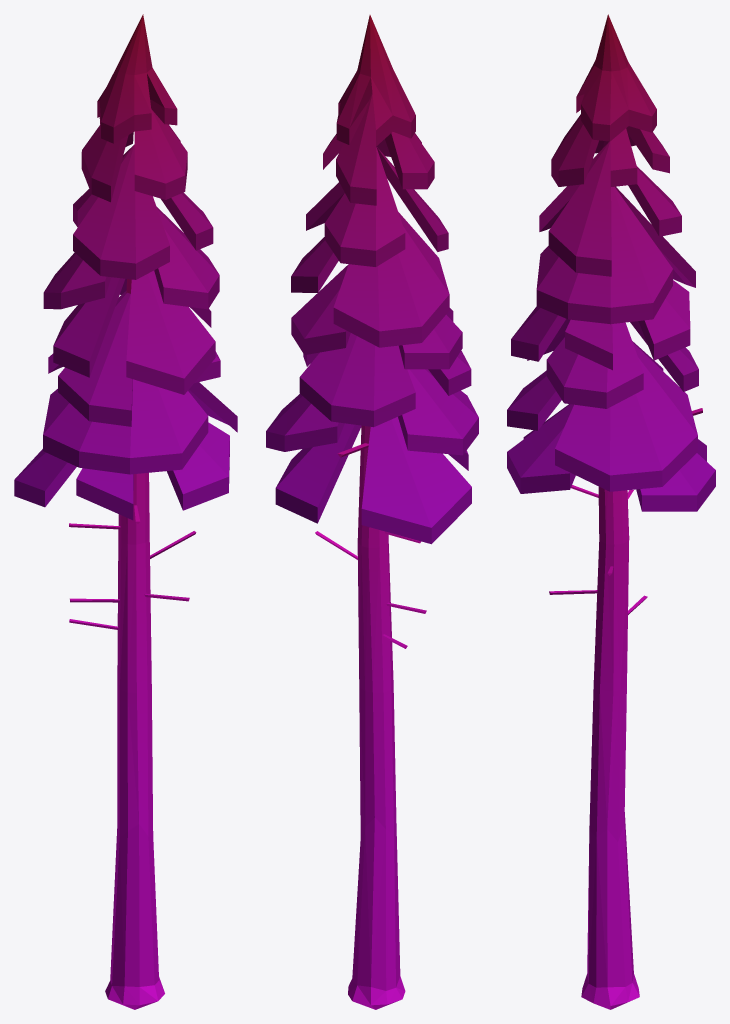
The model's file is SM_Tree_PolyPine_Sparse_01.gltf.
3 views of the same model, side by side, from view 1: azimuth 30°, elevation 25°; view 2: azimuth 150°, elevation 25°; view 3: azimuth 270°, elevation 25° (orthographic).
Visible parts, largest first — view 1: SM_Tree_PolyPine_Sparse_01; view 2: SM_Tree_PolyPine_Sparse_01; view 3: SM_Tree_PolyPine_Sparse_01.
Part boxes in pixels (x1,y1,x2,y2): SM_Tree_PolyPine_Sparse_01: [14, 14, 237, 1009]; SM_Tree_PolyPine_Sparse_01: [266, 15, 478, 1009]; SM_Tree_PolyPine_Sparse_01: [507, 14, 715, 1009].
Size of the model in its own units: 1.56 by 7.93 by 1.5.
